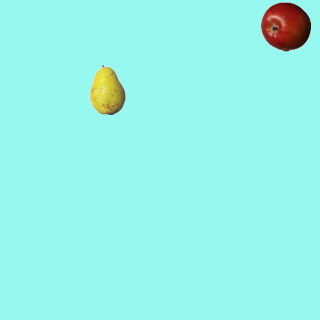Apple Braeburn: (260, 1, 310, 51)
Pear Monster: (82, 64, 132, 114)
